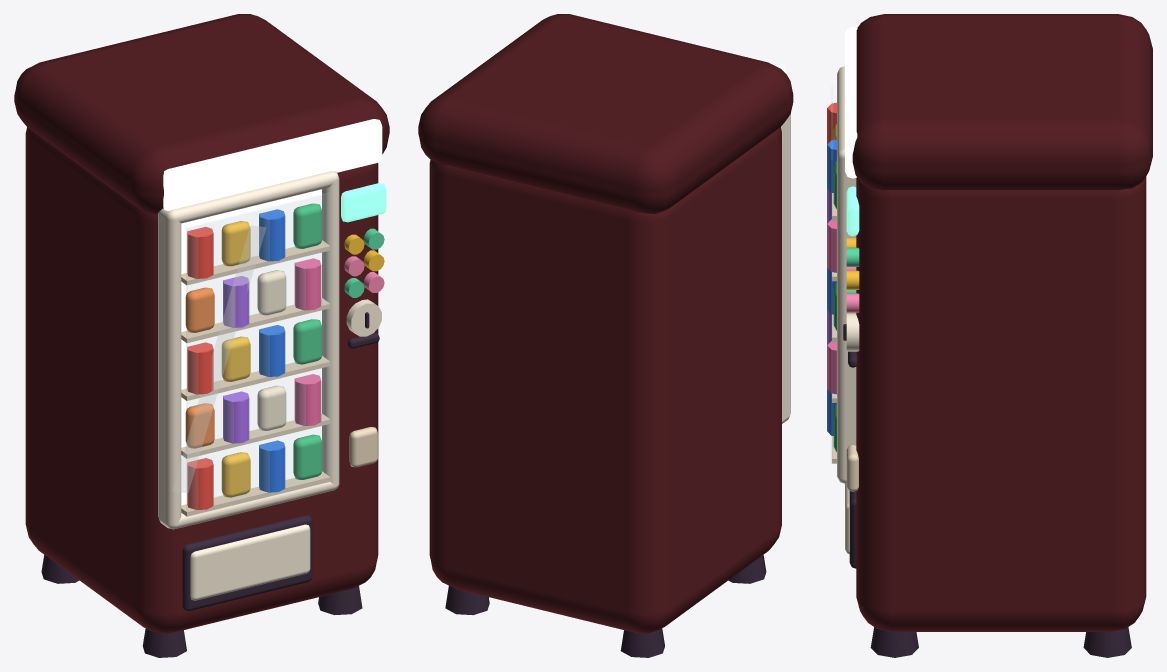
The model's file is machine-alcohol.glb.
The picture shows the model from 3 angles, left to right: view 1: azimuth 30°, elevation 25°; view 2: azimuth 150°, elevation 25°; view 3: azimuth 270°, elevation 25°; orthographic projection. The views are drawn at different scales.
Parts seen in each view (by area): view 1: cabinet, cap, glass, interior-back, machine-alcohol, header, frame-left, pickup-flap, frame-right, glass-shine, pickup-recess, frame-top (+24 smaller); view 2: cabinet, cap, frame-left, machine-alcohol; view 3: cabinet, cap, frame-right, machine-alcohol, header, glass, frame-top, screen, coin-return, pickup-recess, coin-slot, slot-3-3 (+1 smaller).
Boxes of the visible parts, bbox=[...] form: cabinet: bbox=[25, 127, 378, 633]; cap: bbox=[14, 14, 389, 213]; glass: bbox=[187, 193, 330, 516]; interior-back: bbox=[181, 189, 321, 505]; machine-alcohol: bbox=[41, 228, 384, 657]; header: bbox=[163, 119, 382, 210]; frame-left: bbox=[158, 208, 181, 528]; pickup-flap: bbox=[190, 524, 310, 600]; frame-right: bbox=[322, 171, 339, 489]; glass-shine: bbox=[172, 226, 265, 492]; pickup-recess: bbox=[182, 515, 312, 610]; frame-top: bbox=[158, 171, 339, 223]; cabinet: bbox=[429, 127, 781, 633]; cap: bbox=[418, 14, 793, 214]; frame-left: bbox=[781, 113, 790, 419]; machine-alcohol: bbox=[445, 555, 766, 657]; cabinet: bbox=[856, 176, 1146, 631]; cap: bbox=[852, 14, 1152, 190]; frame-right: bbox=[837, 148, 856, 482]; machine-alcohol: bbox=[832, 193, 1131, 657]; header: bbox=[845, 27, 857, 178]; glass: bbox=[831, 87, 832, 462]; frame-top: bbox=[837, 67, 844, 159]; screen: bbox=[846, 186, 859, 236]; coin-return: bbox=[846, 444, 858, 491]; pickup-recess: bbox=[849, 491, 856, 568]; coin-slot: bbox=[846, 313, 859, 351]; slot-3-3: bbox=[827, 219, 836, 272].
Size of the model in its own units: 0.96 by 1.83 by 1.01.
